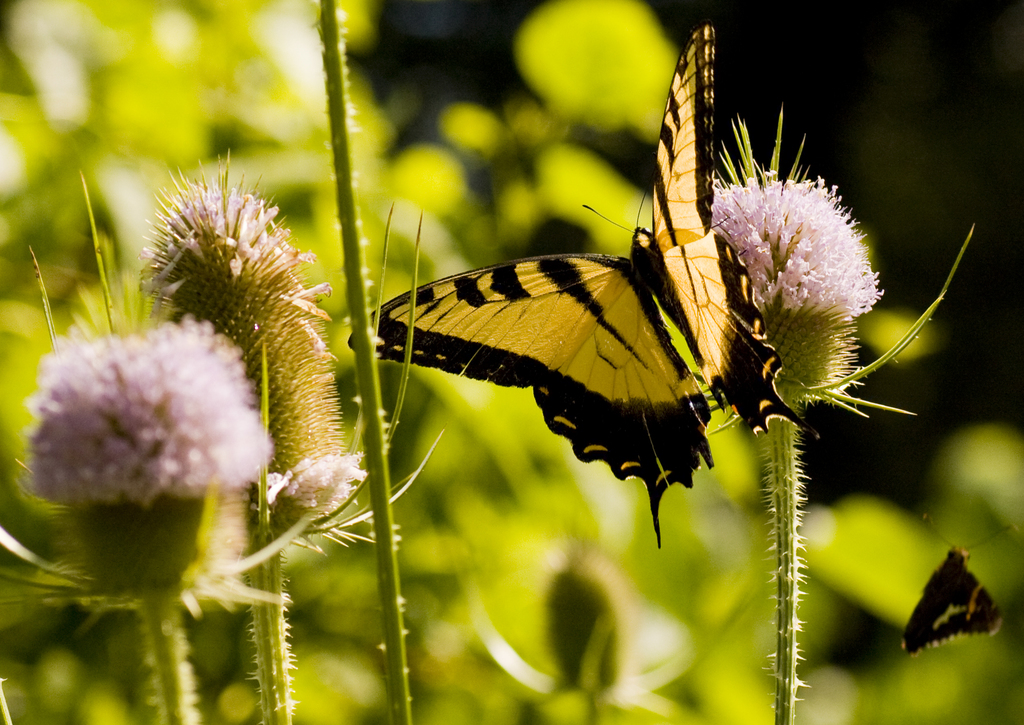Butterfly: (366, 17, 808, 531)
